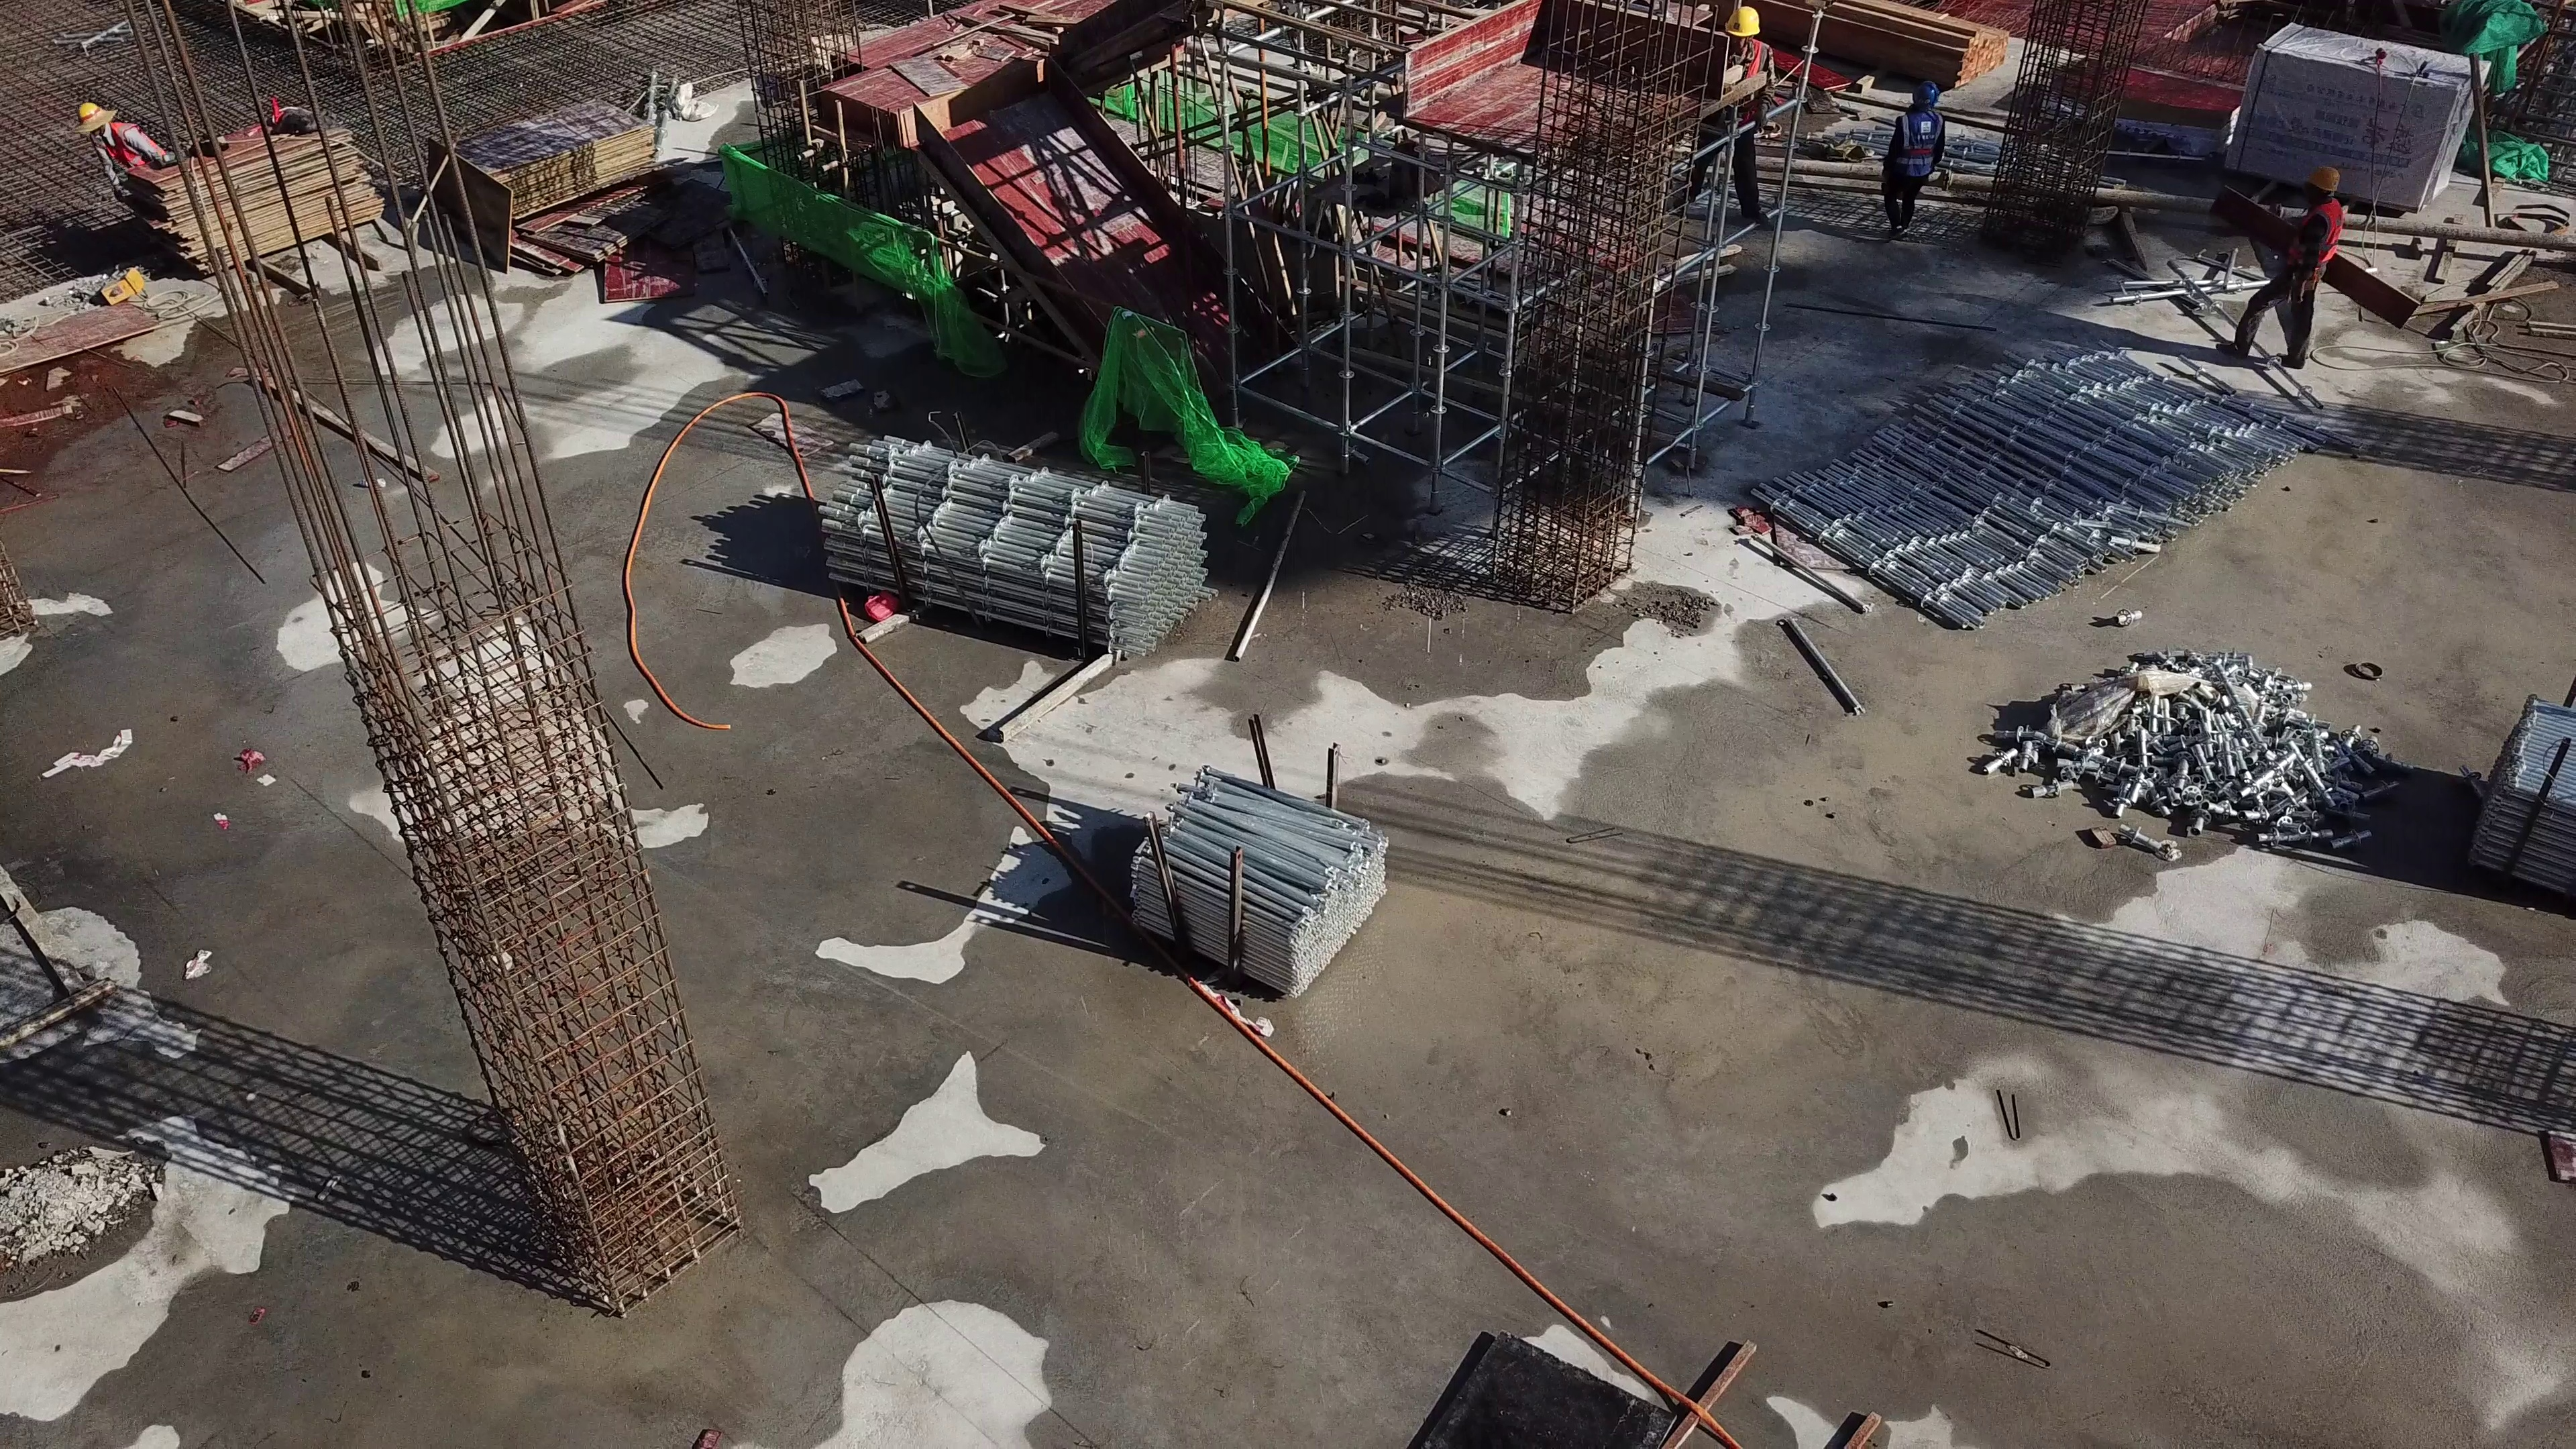board: (449, 100, 683, 274), (139, 121, 387, 274), (2075, 66, 2231, 133)
helmet: (1723, 7, 1762, 37), (2305, 166, 2339, 195), (1914, 80, 1937, 108), (76, 103, 101, 123)
person: (2213, 164, 2338, 371), (1685, 9, 1776, 225), (1883, 85, 1950, 234), (74, 100, 166, 195)
scaffold: (1762, 357, 2279, 638), (817, 439, 1210, 672), (1125, 771, 1378, 973), (2473, 698, 2576, 879)
vest: (2288, 197, 2340, 276), (1900, 111, 1941, 181), (99, 123, 159, 166), (1743, 40, 1760, 125)
wood: (1776, 1, 2000, 86)
